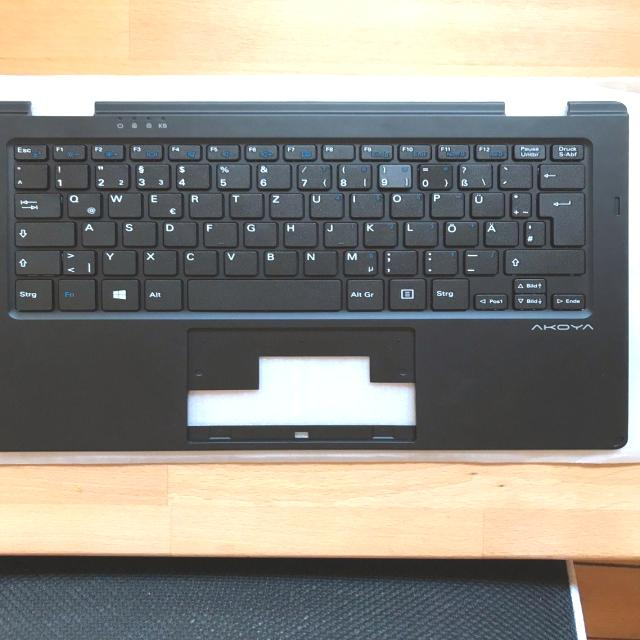0: (416, 162, 452, 189)
1: (53, 162, 89, 189)
2: (92, 162, 128, 189)
3: (133, 162, 169, 189)
4: (173, 162, 209, 189)
5: (213, 162, 249, 189)
6: (254, 163, 290, 189)
7: (295, 162, 331, 189)
8: (335, 162, 371, 189)
9: (375, 162, 411, 188)
a: (80, 220, 116, 246)
accent: (496, 162, 532, 188)
ae: (482, 219, 518, 246)
alt-left: (141, 277, 181, 311)
altgr-right: (343, 277, 383, 310)
b: (261, 249, 297, 275)
c: (181, 250, 217, 276)
caret: (11, 162, 47, 188)
comma: (381, 249, 417, 275)
d: (161, 220, 197, 247)
del: (537, 162, 585, 188)
e: (146, 191, 182, 218)
enter: (536, 190, 584, 246)
f: (201, 220, 237, 247)
g: (242, 221, 277, 247)
h: (281, 220, 317, 247)
hash: (522, 220, 544, 246)
i: (347, 192, 383, 218)
j: (321, 220, 357, 246)
k: (361, 220, 397, 247)
keyboard: (3, 136, 597, 320)
l: (401, 220, 437, 247)
less: (61, 248, 95, 274)
m: (341, 249, 377, 275)
minus: (461, 248, 497, 274)
n: (301, 250, 337, 276)
o: (388, 191, 424, 218)
oe: (442, 219, 478, 246)
p: (427, 190, 463, 218)
plus: (508, 191, 530, 217)
point: (421, 249, 457, 275)
q: (65, 192, 101, 218)
r: (187, 191, 223, 218)
s: (120, 220, 156, 246)
shift-left: (12, 248, 58, 274)
shift-lock: (11, 220, 74, 246)
shift-right: (502, 248, 584, 274)
space: (186, 277, 340, 311)
ss: (455, 162, 491, 188)
strg-left: (11, 277, 51, 311)
strg-right: (428, 276, 468, 310)
t: (227, 192, 263, 218)
tab: (11, 191, 59, 218)
u: (307, 191, 343, 218)
ue: (467, 191, 504, 218)
v: (222, 249, 258, 275)
w: (105, 190, 141, 218)
x: (141, 249, 177, 275)
y: (100, 249, 136, 275)
z: (267, 191, 303, 218)
